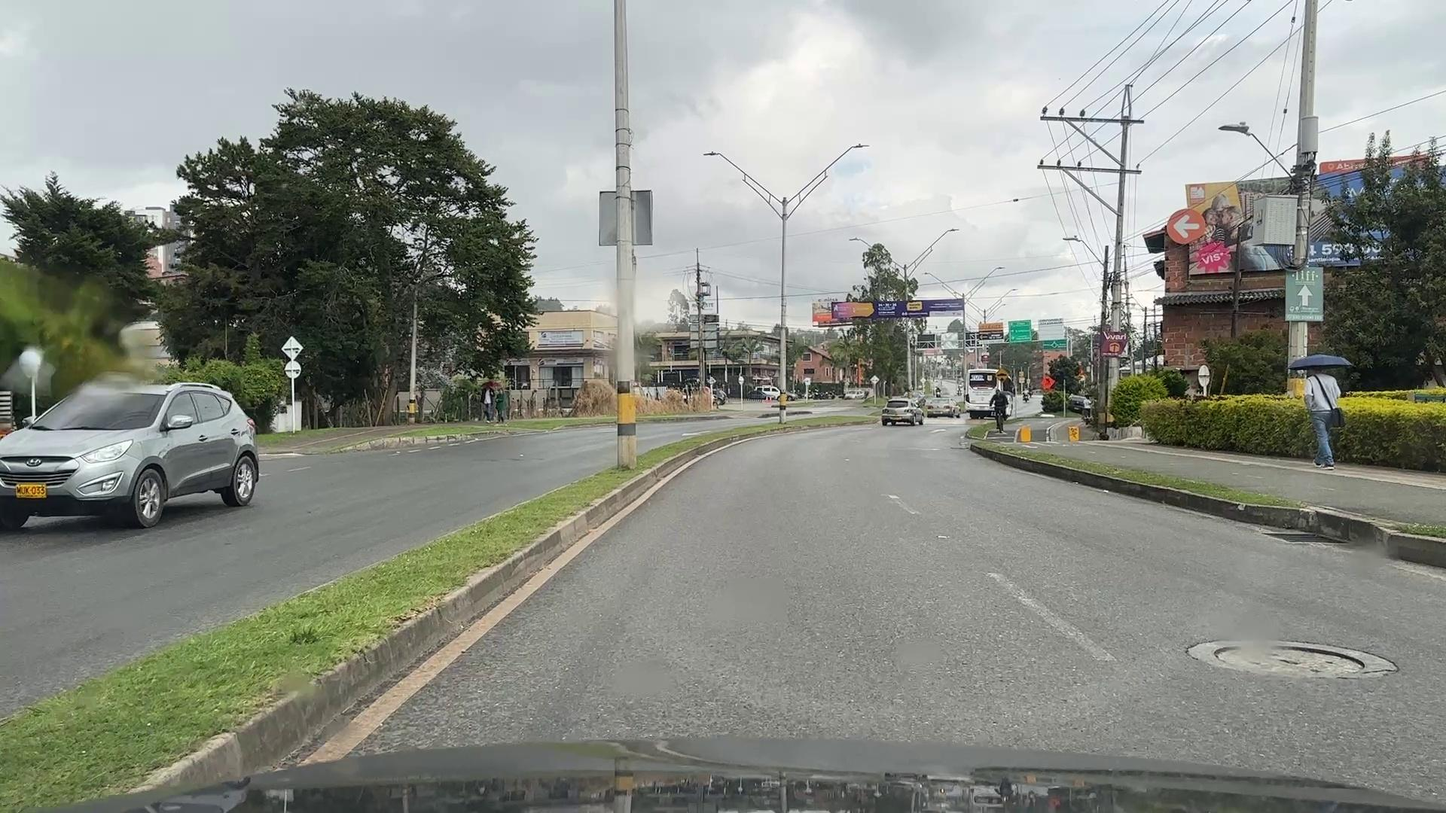registro: (1216, 645, 1363, 674)
rejilla: (1261, 533, 1348, 543)
